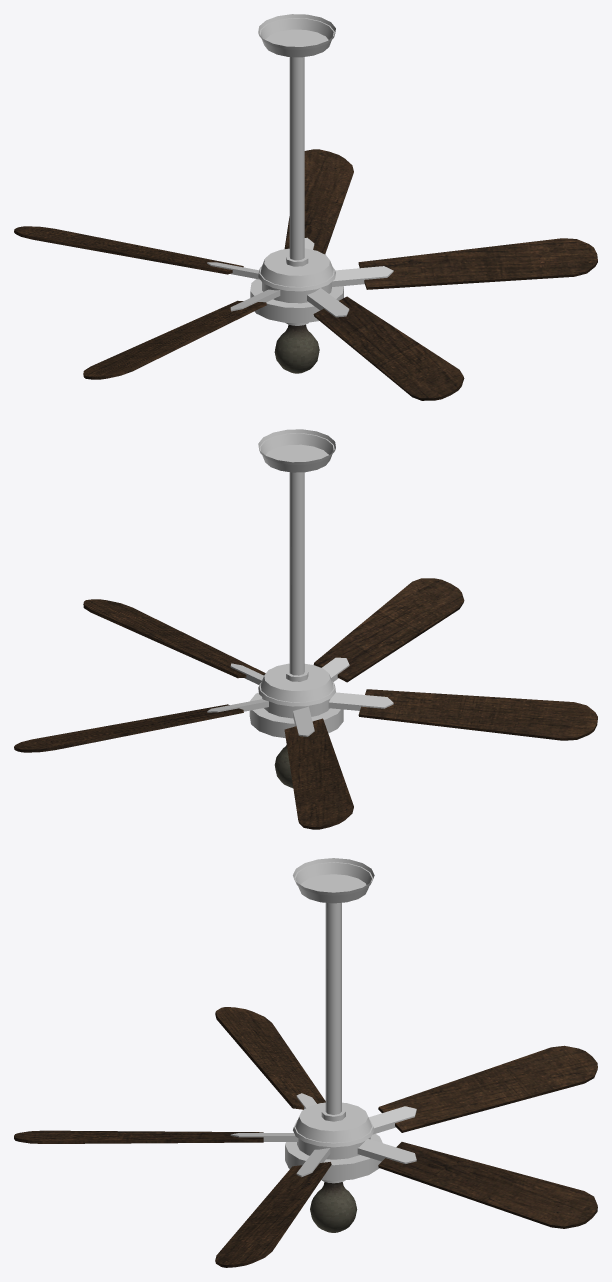
The model's file is ceiling_fan_mp_2_1_light_off.obj.
3 views of the same model, one above another, from view 1: azimuth 30°, elevation 25°; view 2: azimuth 150°, elevation 25°; view 3: azimuth 270°, elevation 25° (orthographic). The views are drawn at different scales.
Visible parts, largest first — view 1: ceiling_fan_mp_2_1_light_off_blades, ceiling_fan_mp_2_1_light_off; view 2: ceiling_fan_mp_2_1_light_off_blades, ceiling_fan_mp_2_1_light_off; view 3: ceiling_fan_mp_2_1_light_off_blades, ceiling_fan_mp_2_1_light_off.
Boxes of the visible parts, box(x1,y1,x2,y2) form: ceiling_fan_mp_2_1_light_off_blades: box(14, 149, 597, 400); ceiling_fan_mp_2_1_light_off: box(250, 14, 343, 373); ceiling_fan_mp_2_1_light_off_blades: box(14, 578, 597, 829); ceiling_fan_mp_2_1_light_off: box(249, 429, 343, 788); ceiling_fan_mp_2_1_light_off_blades: box(14, 1007, 597, 1267); ceiling_fan_mp_2_1_light_off: box(285, 858, 382, 1232).
Size of the model in its own units: 1.11 by 0.7128 by 1.06.
